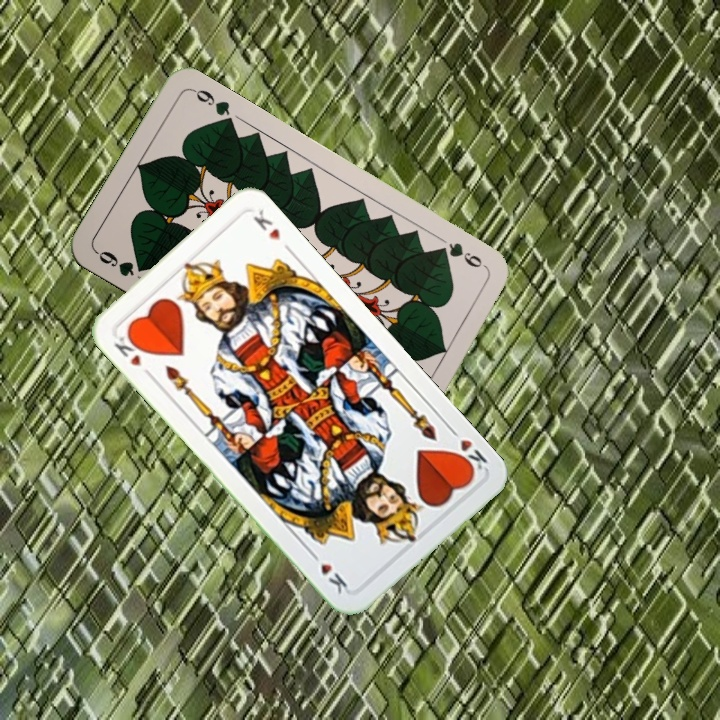G9: (91, 246, 150, 279), (433, 238, 490, 271)
HK: (445, 423, 491, 477), (110, 329, 156, 380)
